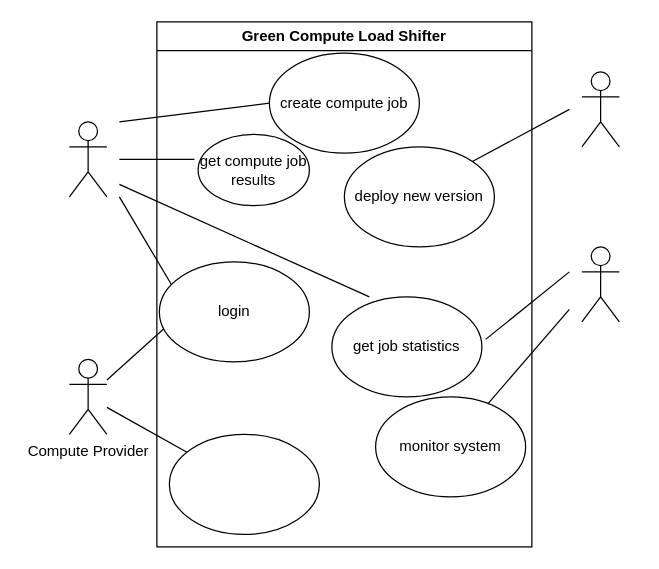
This 659x569 diagram has some shape labels left out. The shapes that lost their labels are listed below. From the top down, each one's box as (x1, y1, x2, y2) in pixels, then its label:
(581, 71, 619, 147): Developer
(68, 121, 107, 197): Compute Consumer
(581, 246, 619, 322): Operations
(168, 433, 319, 534): run compute job
